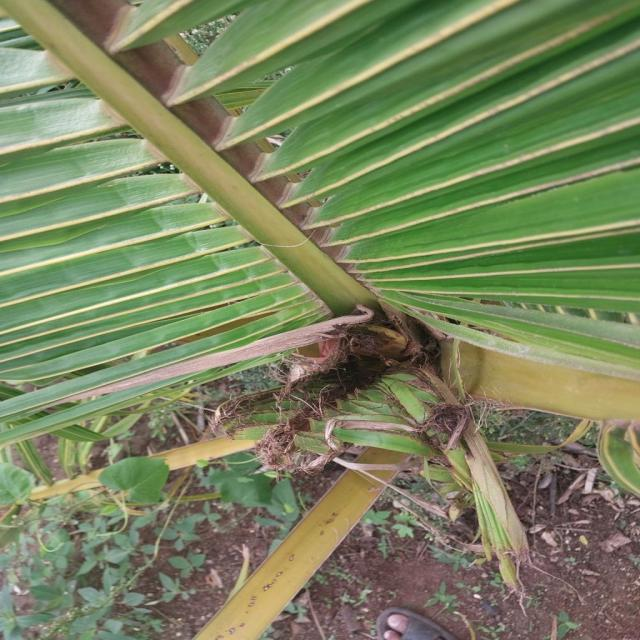bud rot: (215, 321, 520, 595)
